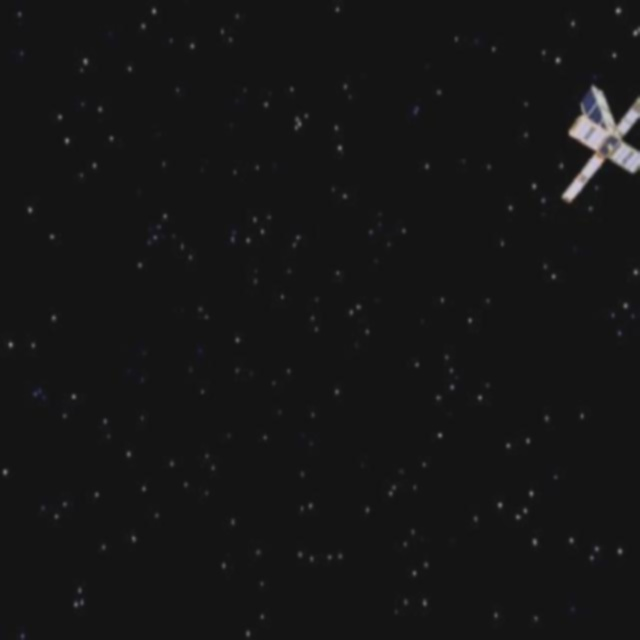medium_debris: (554, 86, 640, 206)
